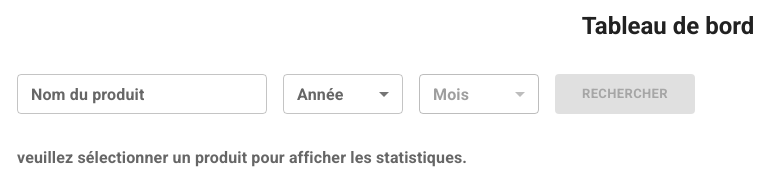
Test: DashboardPage › displays a message if statistics fetch fails
Type "Tomates" into the dropdown labelled "Nom du produit". click: [126, 94]
box: [23,80,228,108]
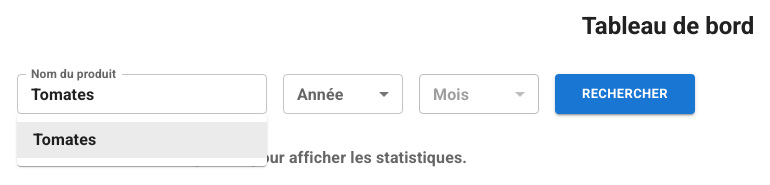
Click the button "Rechercher". click: [625, 94]
box: [555,74,695,114]
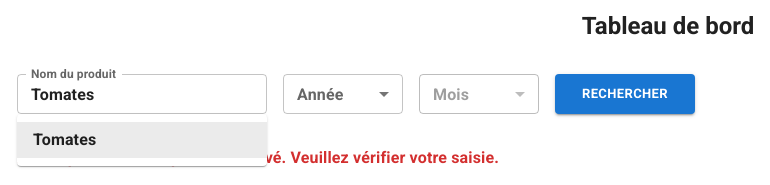
expect the text "Aucun produit correspondant trouvé. Veuillez vérifier votre saisie." is shown: met, box [17,148,499,167]
